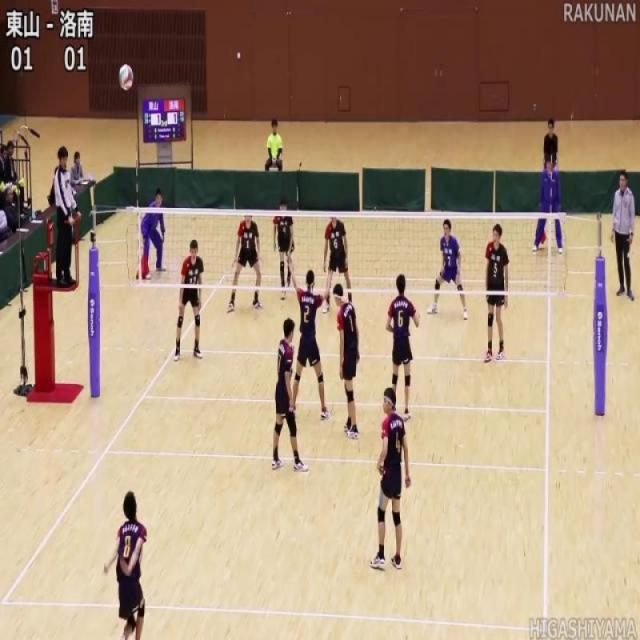volleyball: (117, 62, 134, 93)
